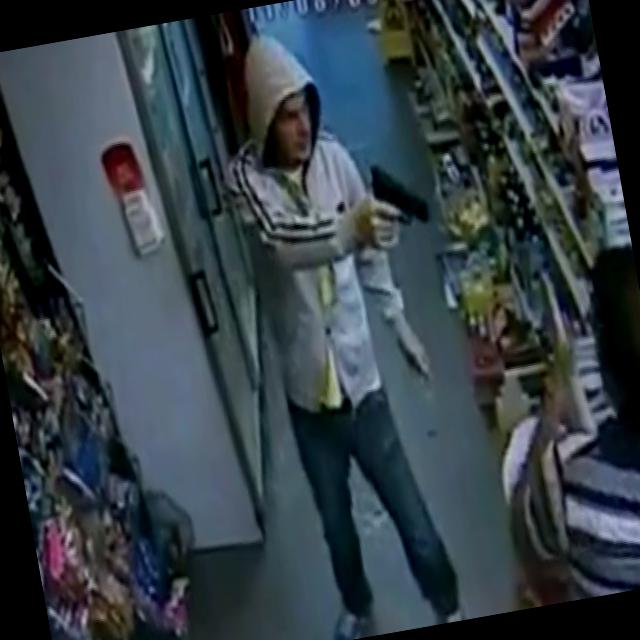handgun: (345, 144, 441, 274)
